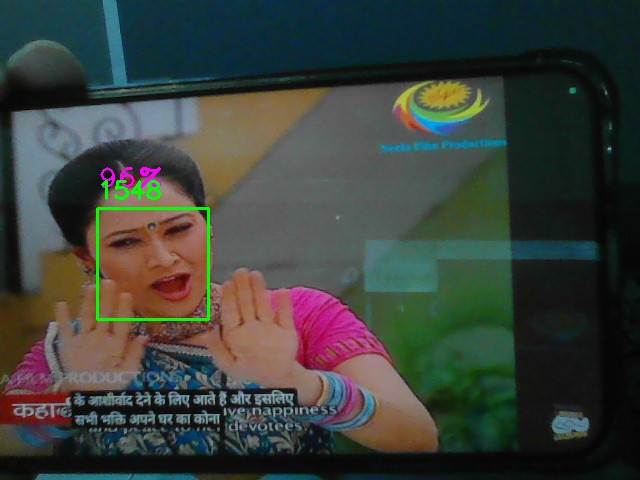fake: (97, 208, 209, 320)
